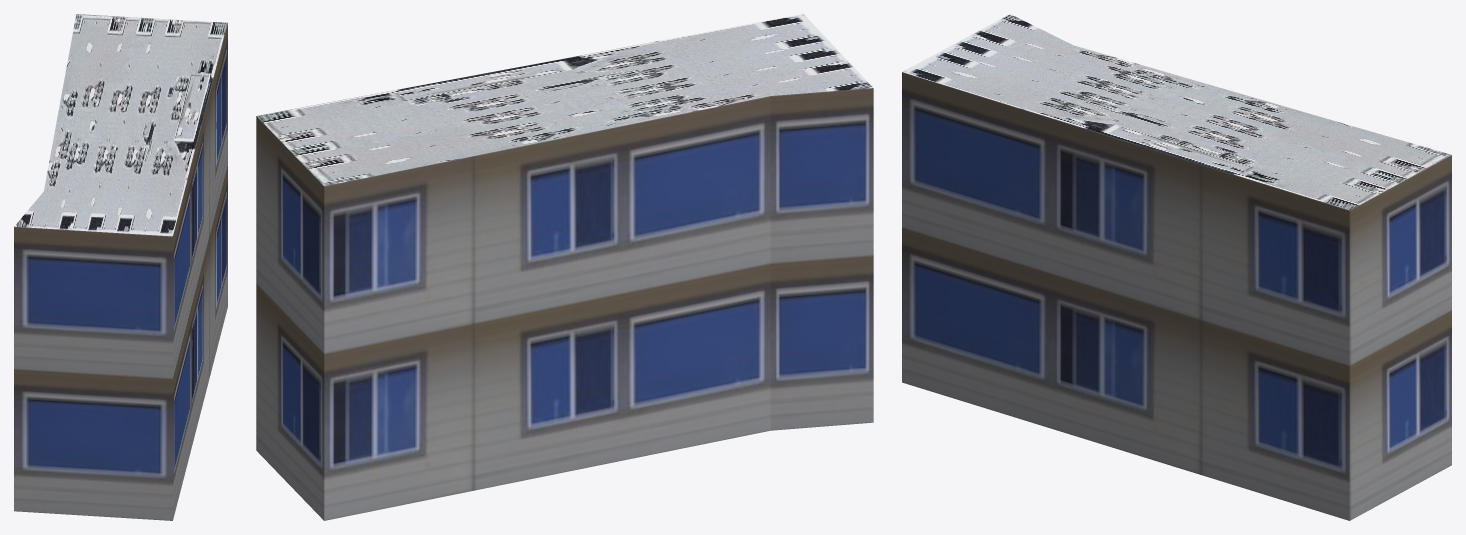
Rendered from ResTex__1963.fbx.
3 renders of one model, left to right at view 1: azimuth 30°, elevation 25°; view 2: azimuth 150°, elevation 25°; view 3: azimuth 270°, elevation 25°, orthographic. The views are drawn at different scales.
Parts seen in each view (by area): view 1: CityEngineMaterial_23_m, CityEngineMaterial_4_m; view 2: CityEngineMaterial_23_m, CityEngineMaterial_4_m; view 3: CityEngineMaterial_23_m, CityEngineMaterial_4_m.
Boxes of the visible parts, x1=… form: CityEngineMaterial_23_m: x1=14, y1=23, x2=227, y2=520; CityEngineMaterial_4_m: x1=14, y1=14, x2=227, y2=236; CityEngineMaterial_23_m: x1=256, y1=88, x2=873, y2=520; CityEngineMaterial_4_m: x1=257, y1=14, x2=872, y2=186; CityEngineMaterial_23_m: x1=902, y1=72, x2=1451, y2=520; CityEngineMaterial_4_m: x1=902, y1=14, x2=1451, y2=210.
Size of the model in its own units: 8.15 by 6 by 9.63.
Materials: 2 (2 with a texture image).
